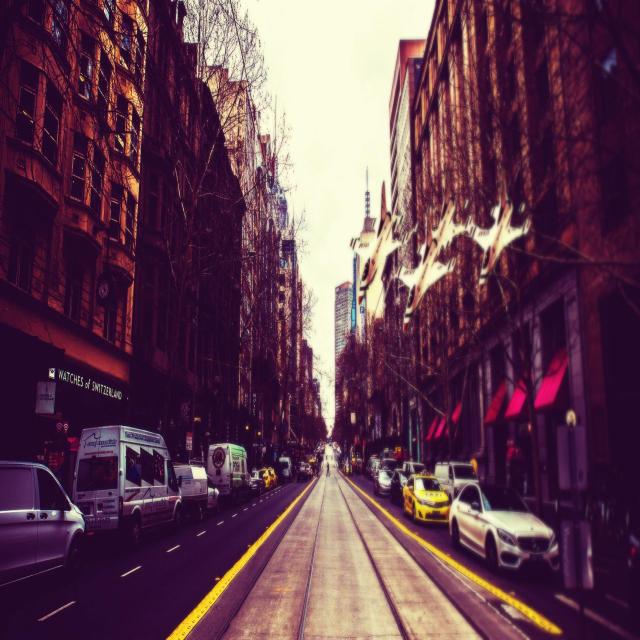airplane: (348, 182, 416, 326), (468, 194, 531, 287), (398, 239, 456, 330), (422, 195, 466, 261)
